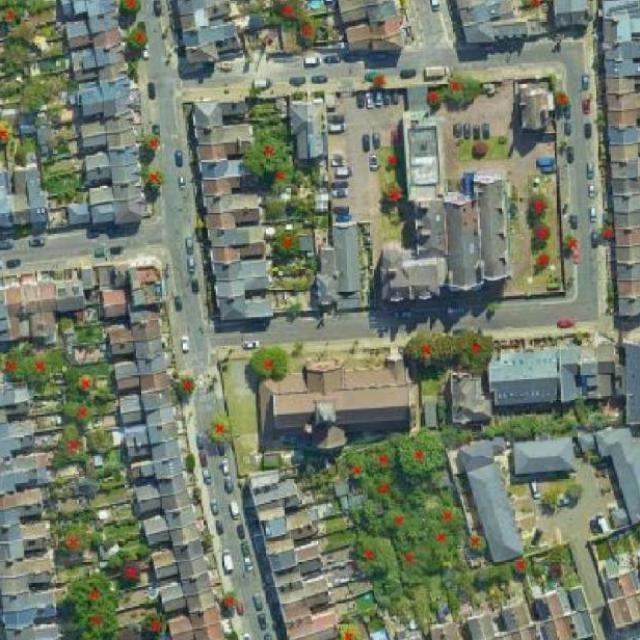tree: (237, 128, 292, 176), (397, 426, 446, 477), (64, 571, 120, 610), (403, 332, 466, 364), (456, 328, 495, 371), (73, 603, 117, 640), (360, 472, 408, 504), (250, 344, 290, 382), (447, 73, 484, 106), (263, 0, 306, 28), (356, 502, 388, 538), (366, 442, 402, 472), (429, 502, 467, 530), (61, 398, 100, 425), (352, 540, 387, 570), (54, 530, 91, 558), (261, 163, 296, 192), (341, 446, 368, 481), (382, 506, 414, 535), (207, 410, 235, 442), (58, 424, 83, 459), (427, 524, 455, 552), (29, 350, 53, 382), (394, 546, 423, 572), (4, 350, 29, 380), (90, 427, 116, 454), (276, 230, 302, 256), (118, 557, 144, 582), (142, 612, 168, 636), (295, 20, 320, 44), (1, 3, 26, 27), (546, 541, 572, 564), (382, 176, 403, 204), (464, 532, 488, 555), (72, 371, 96, 394), (126, 27, 150, 49), (0, 116, 17, 146), (424, 86, 448, 107), (144, 168, 168, 189), (531, 219, 552, 242), (334, 623, 362, 640), (140, 132, 161, 154), (220, 589, 240, 612), (177, 374, 196, 398), (540, 487, 561, 508), (510, 556, 532, 576), (528, 194, 548, 216), (118, 0, 144, 16), (564, 482, 585, 500), (553, 89, 570, 110), (286, 300, 303, 318), (599, 222, 616, 240), (471, 141, 488, 159), (369, 74, 388, 90), (384, 155, 401, 170), (632, 516, 640, 546), (58, 315, 73, 331), (562, 234, 577, 250), (519, 0, 544, 9), (536, 250, 551, 264), (75, 190, 87, 204)
